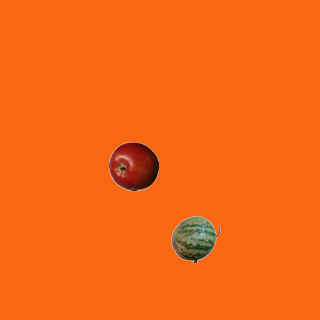Apple Braeburn: (108, 141, 158, 191)
Watermelon: (170, 214, 220, 264)
